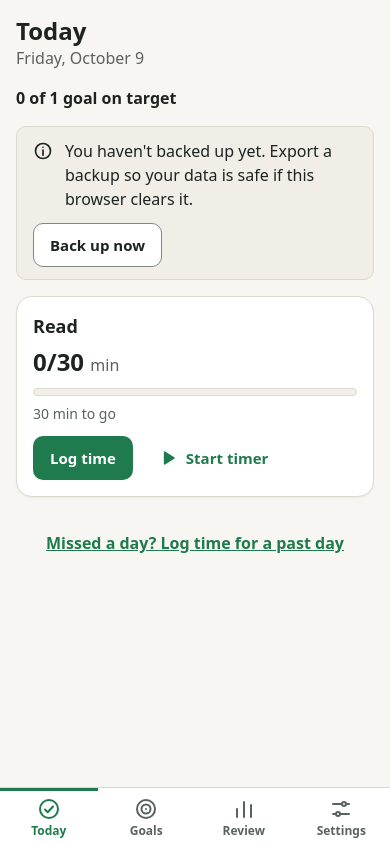
Test: Today — M5-AC13 (entry order, pendingTimer), M3-D4, M5-AC6 › M3-D4: losing the Save race (TIMER_NOT_RUNNING) closes the dialog and says why; the summary keeps the goal name
The image size is (390, 844).
Step 1. Click the button "Start timer" → (213, 458), box [141,436,285,480]
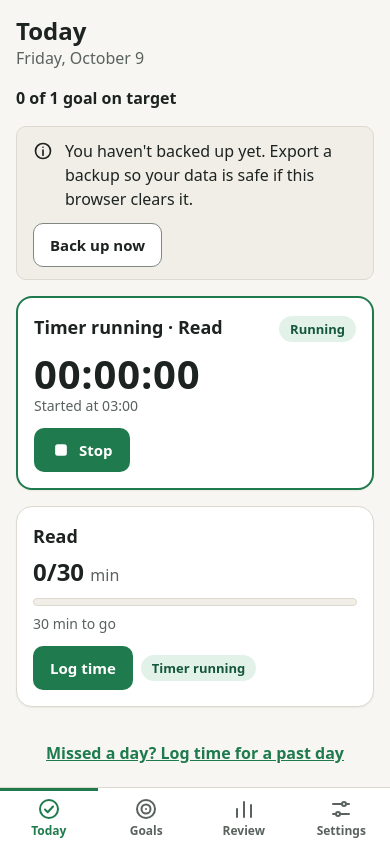
Result: the element with test id "timer-card" is shown at [16,296,374,490]
Step 2. Click the button with aria-label "Stop timer for Read" → (82, 450), box [34,428,130,472]
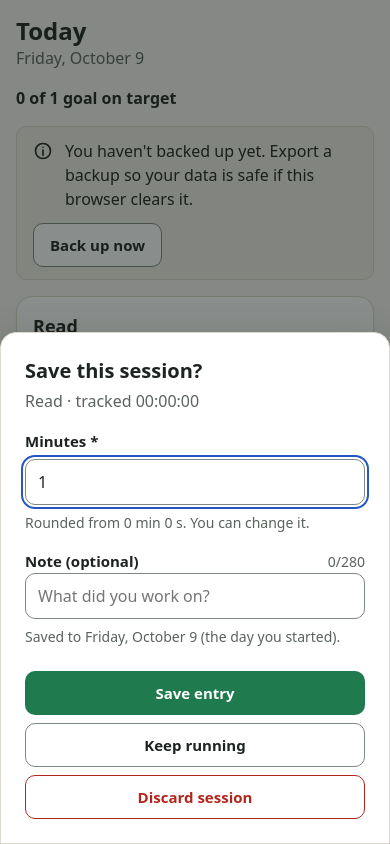
Result: the element with test id "timer-card" is gone
Result: the text "Read · tracked 00:00:00" is shown at [25,390,199,412]
Step 3. Click the button "Save entry" → (195, 693), box [25,671,365,715]
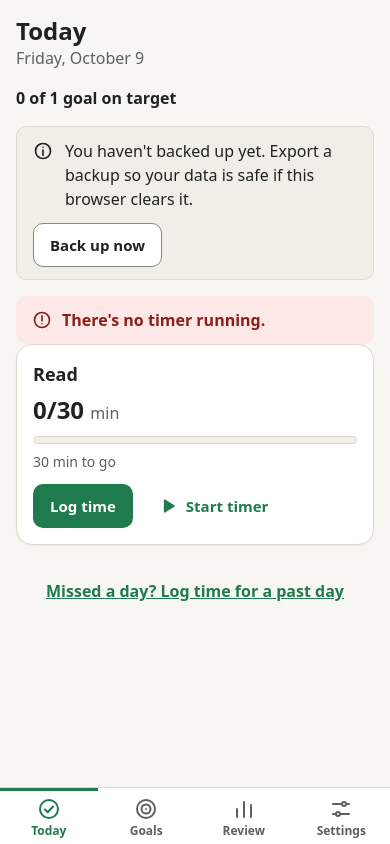
Result: the dialog with test id "stop-dialog" is gone
Result: the message reads "There's no timer running." at [62,309,265,331]
